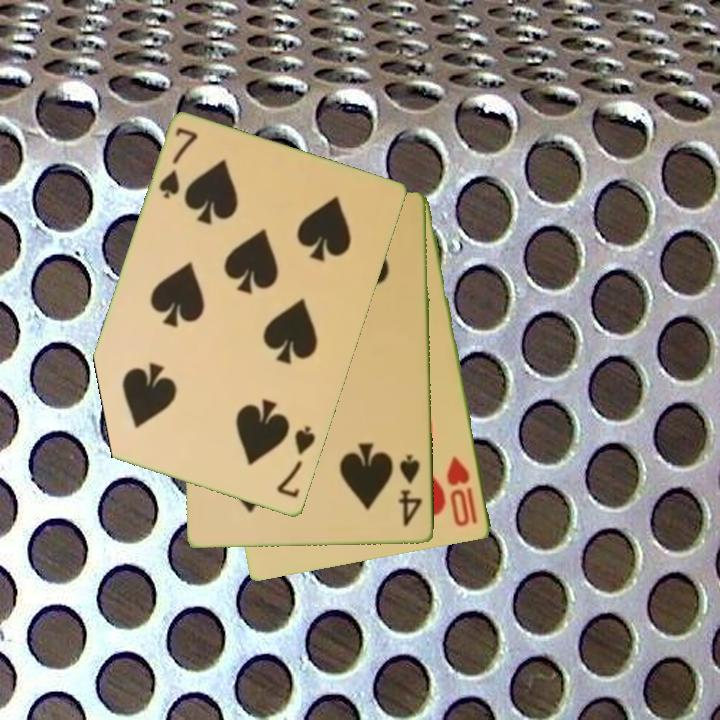10h: (443, 453, 481, 530)
4s: (396, 452, 426, 530)
7s: (273, 422, 319, 501), (155, 124, 201, 203)
